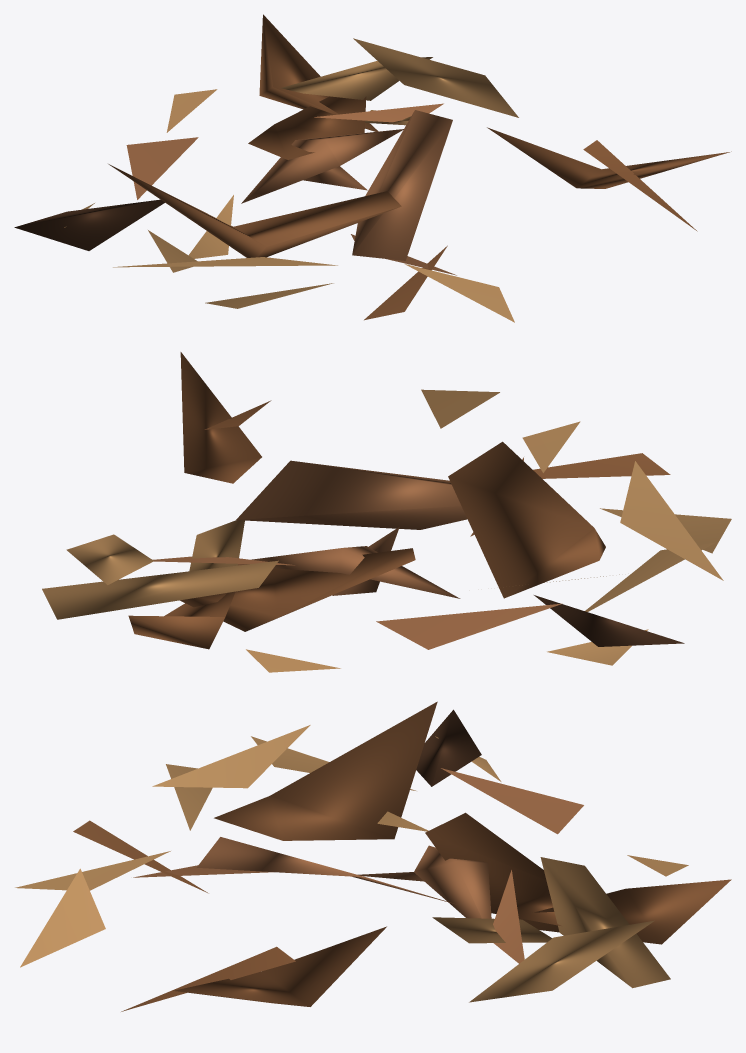
The model's file is canopy_gc_bark_bits_a_lod2.glb.
3 views of the same model, one above another, from view 1: azimuth 30°, elevation 25°; view 2: azimuth 150°, elevation 25°; view 3: azimuth 270°, elevation 25° (orthographic). The views are drawn at different scales.
Visible parts, largest first — view 1: canopy_gc_bark_bits_a.001; view 2: canopy_gc_bark_bits_a.001; view 3: canopy_gc_bark_bits_a.001.
Boxes of the visible parts, x1,y1,x2,y2 form: canopy_gc_bark_bits_a.001: (14,14,731,322); canopy_gc_bark_bits_a.001: (42,352,731,672); canopy_gc_bark_bits_a.001: (15,701,731,1011).
Bounding box in the file's own units: 3.59 × 0.4324 × 3.46.
